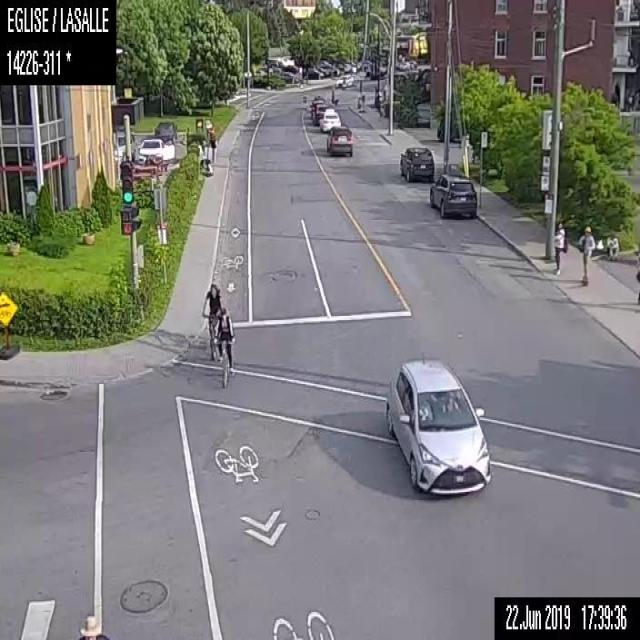cyclist: (211, 306, 233, 389), (202, 280, 223, 362)
pedestrian: (576, 224, 594, 287), (551, 220, 567, 276), (635, 269, 639, 303)
vehicle: (383, 356, 492, 493), (428, 172, 476, 217), (398, 144, 435, 183), (136, 136, 175, 164), (111, 129, 134, 166), (326, 124, 352, 155), (152, 119, 178, 143), (317, 106, 341, 130), (311, 100, 330, 124), (317, 62, 339, 78), (303, 64, 323, 80), (312, 94, 325, 102)
